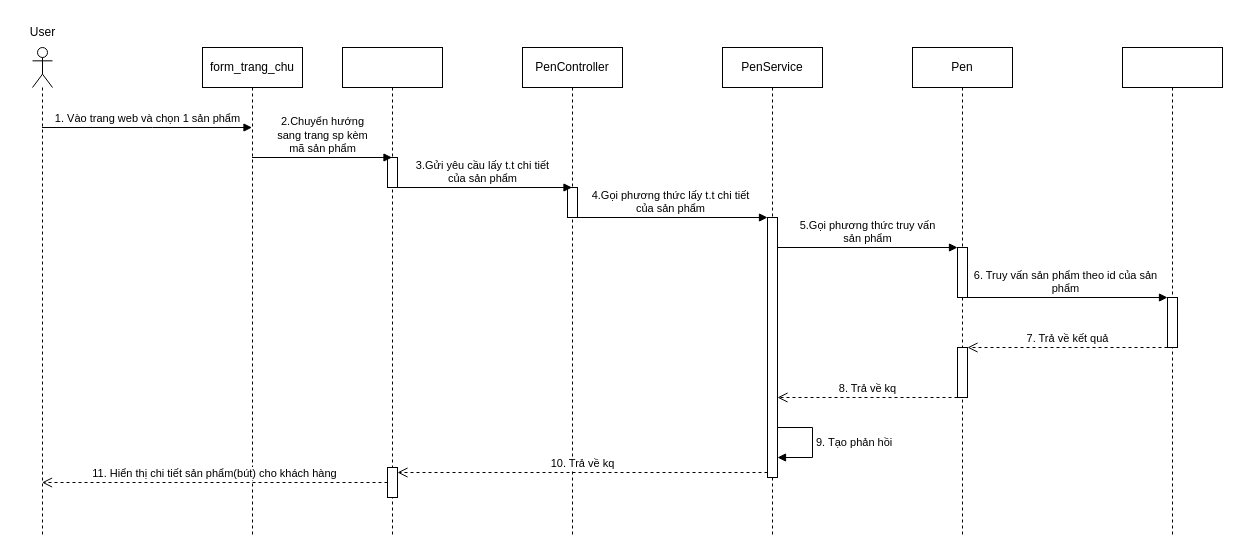
The diagram is 1240 pixels wide and 555 high, and some of its shapes have lost their labels. The shapes that lost their labels are listed below. From the top down, each one's box as (x1, y1, x2, y2) in pixels, then its label:
(342, 46, 442, 538): form_tao_ tai_khoan
(1122, 46, 1222, 538): db/pen
